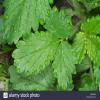Strawberry leaf: (11, 30, 59, 77), (51, 39, 78, 89), (42, 6, 72, 41), (71, 31, 87, 68), (85, 33, 99, 68), (80, 14, 99, 37)
